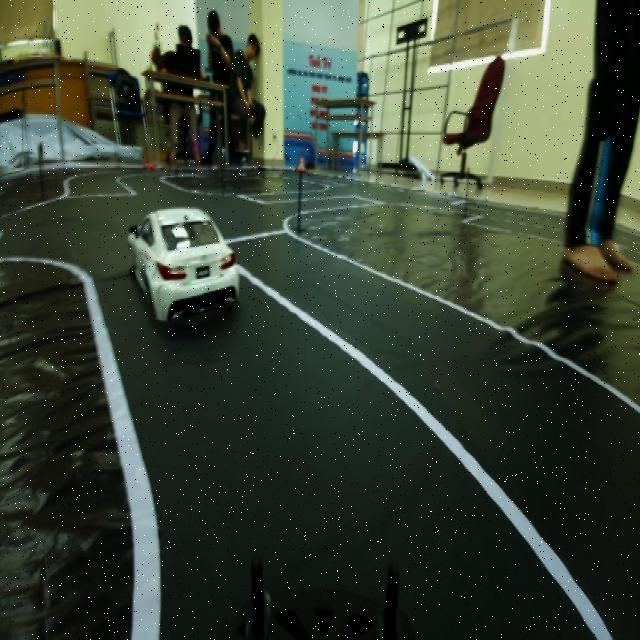car: (124, 200, 248, 331)
